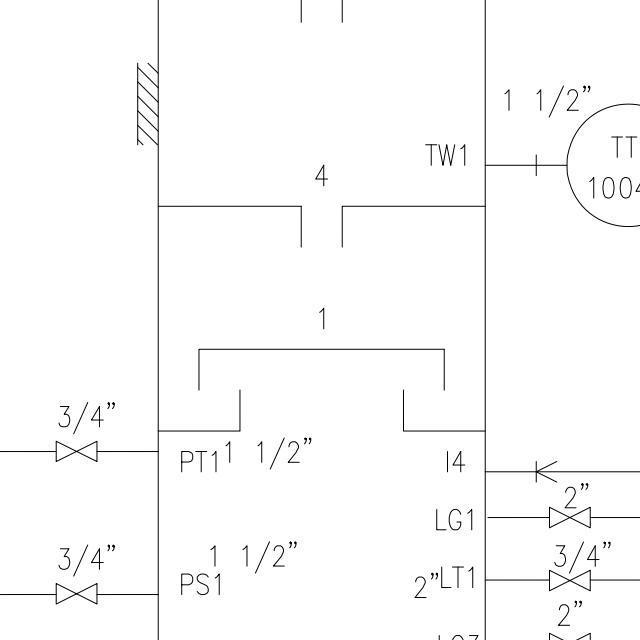GV: (48, 578, 104, 611), (542, 566, 597, 597), (51, 437, 105, 465), (543, 504, 596, 531)
